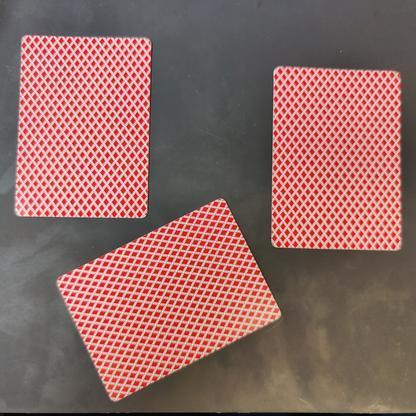card: (53, 250, 278, 409), (257, 52, 413, 265), (11, 26, 154, 225)
